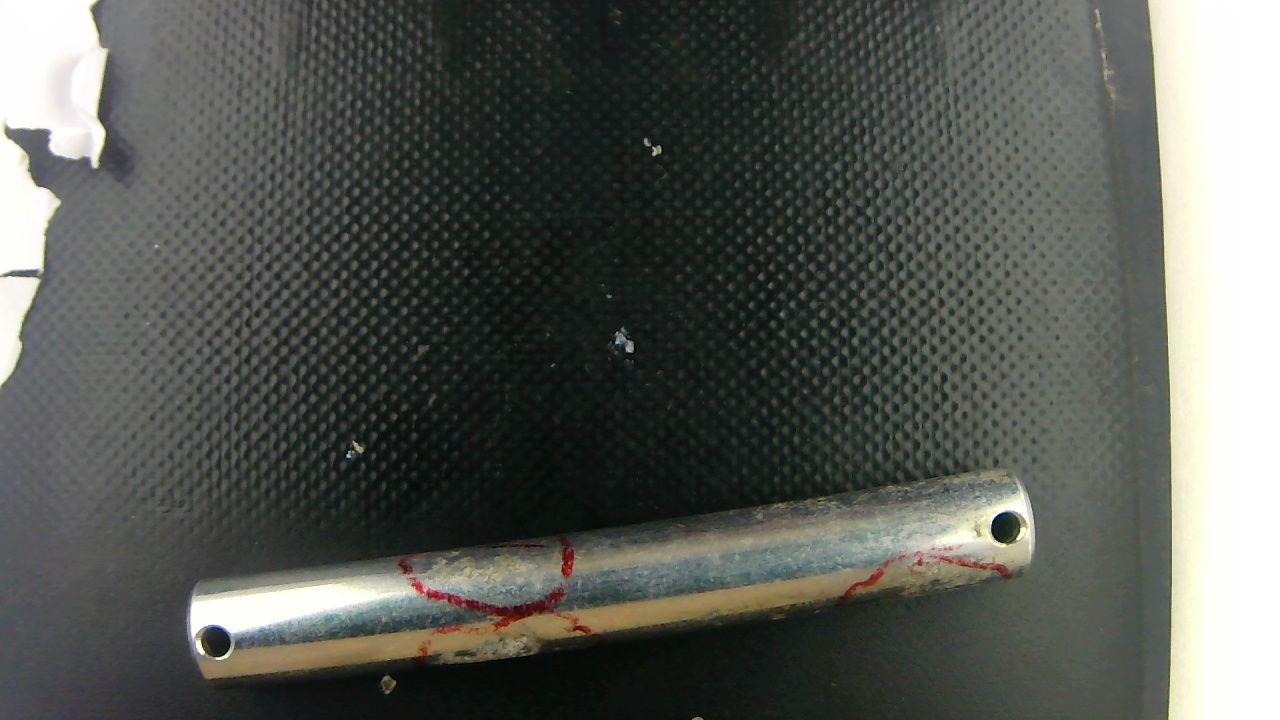whiterust_pin: (407, 545, 553, 600)
